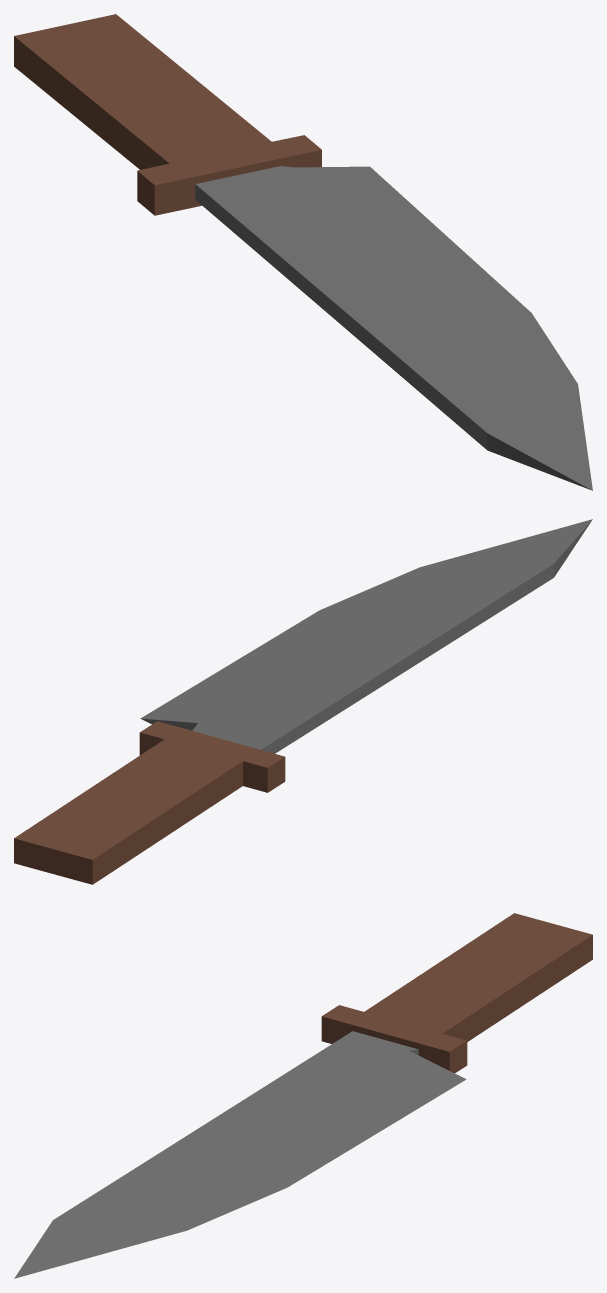
File: SM_Knife.fbx
3 views of the same model, one above another, from view 1: azimuth 30°, elevation 25°; view 2: azimuth 150°, elevation 25°; view 3: azimuth 330°, elevation 25° (orthographic). The views are drawn at different scales.
Parts seen in each view (by area): view 1: knife; view 2: knife; view 3: knife.
Part boxes in pixels (x1=…): knife: x1=14, y1=14, x2=592, y2=490; knife: x1=14, y1=519, x2=592, y2=884; knife: x1=14, y1=913, x2=592, y2=1278.
Bounding box in the file's own units: 15.96 × 2.37 × 83.84.
